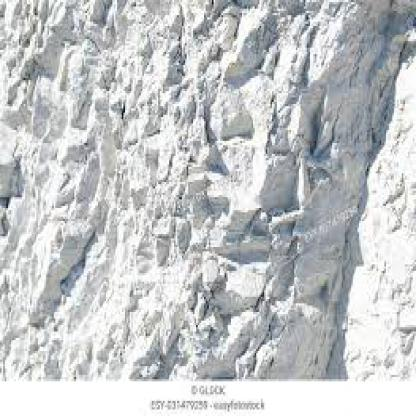Sedimentary_Chalk: (342, 43, 414, 414), (21, 216, 90, 306), (262, 299, 328, 379), (3, 4, 71, 74), (209, 80, 280, 145), (245, 150, 302, 216), (207, 258, 263, 320), (150, 13, 187, 89), (27, 80, 71, 143), (150, 208, 198, 260)
